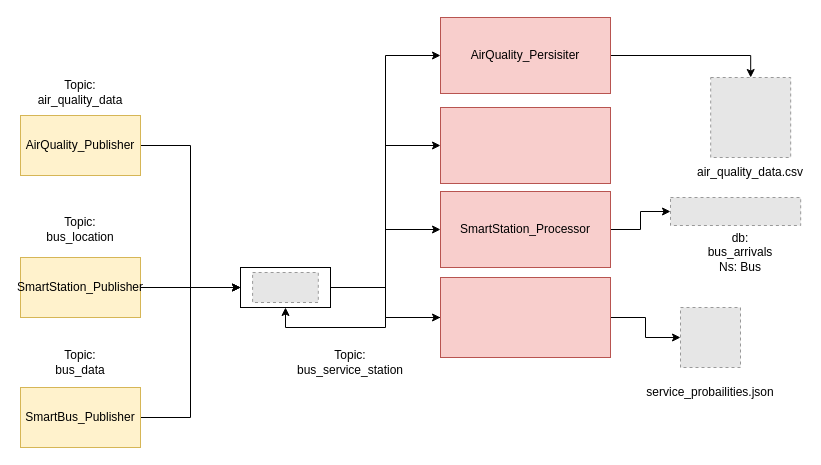
Some shapes in this 821 by 465 pixel diagram are drawn without their labels. Grey dashed boxes stand in for pictures. The shapes that lost their labels are listed below. From the top down, each one's centre as x and y in pixels, then its label:
At point 525,145: "AirQuality_Processor".
At point 525,317: "SmartBus_Processor".
